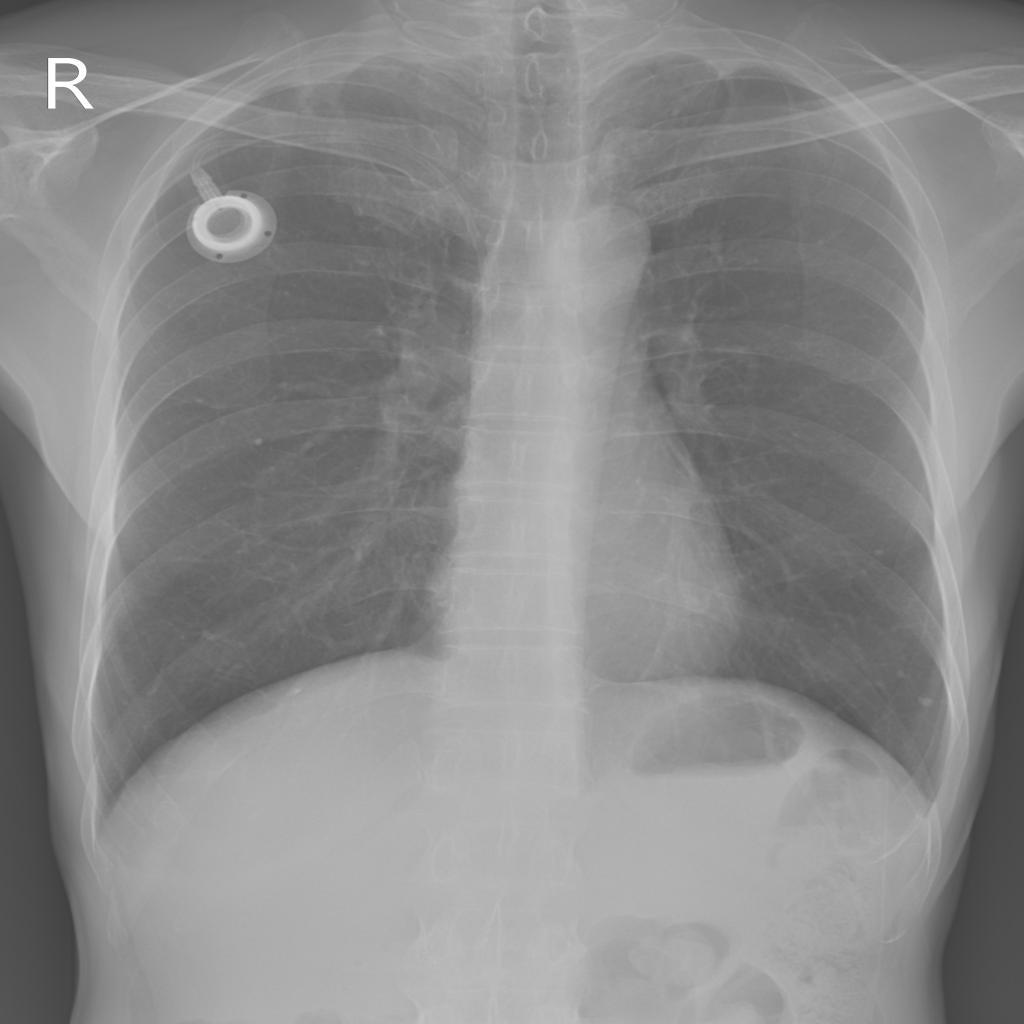Nodule: (915, 695, 938, 708), (873, 548, 886, 557), (895, 670, 907, 679)
